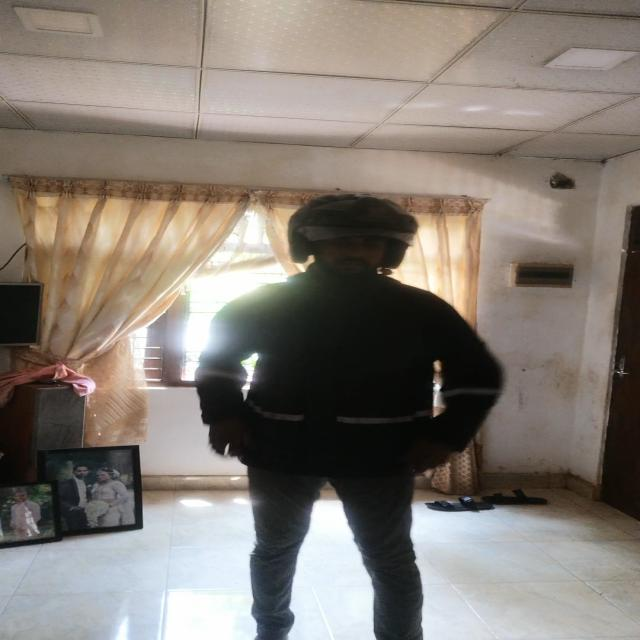Helmet_Wearer: (283, 196, 421, 293)
Jacket_Wearer: (193, 272, 502, 479)
Person: (189, 196, 506, 636)
